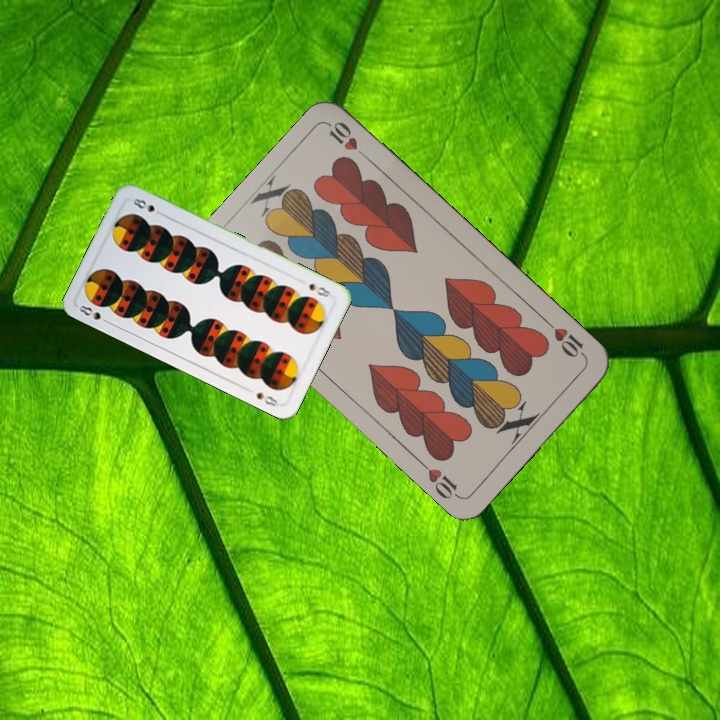H10: (541, 316, 589, 361)
S8: (74, 301, 113, 327), (305, 279, 333, 300)
